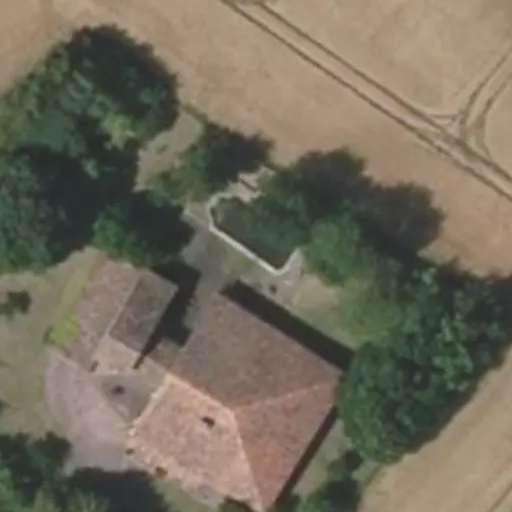pool: (193, 232, 309, 244)
